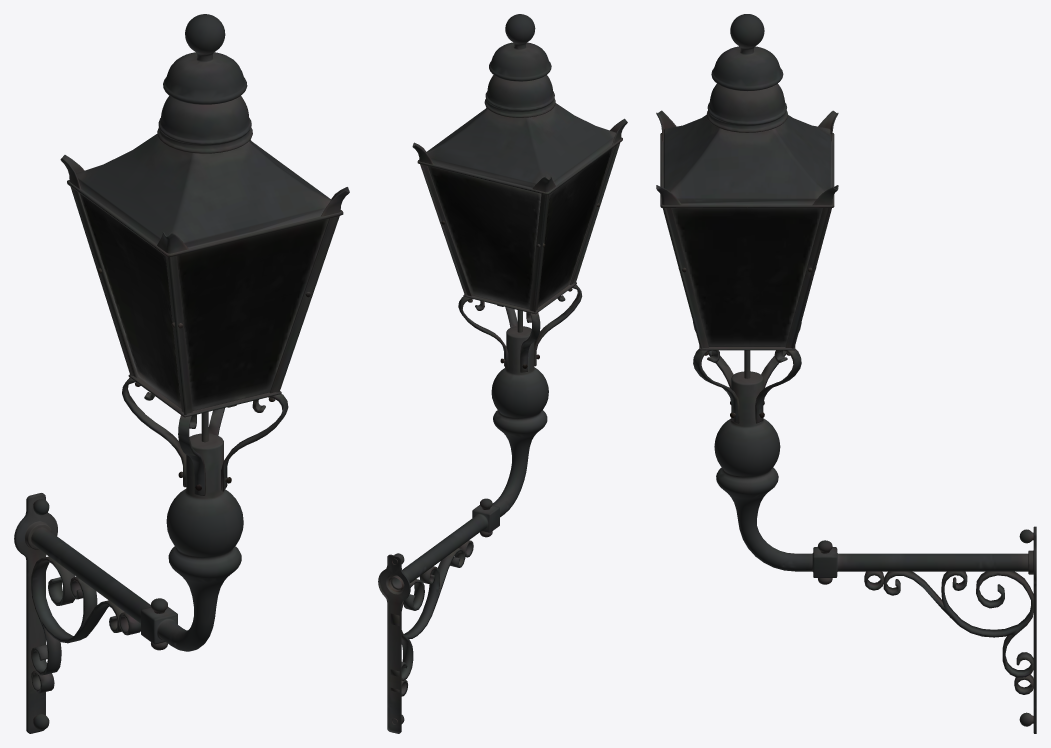
Rendered from street_lamp_02.glb.
3 views of the same model, side by side, from view 1: azimuth 30°, elevation 25°; view 2: azimuth 150°, elevation 25°; view 3: azimuth 270°, elevation 25° (orthographic). The views are drawn at different scales.
Visible parts, largest first — view 1: street_lamp_02; view 2: street_lamp_02; view 3: street_lamp_02.
Boxes of the visible parts, x1,y1,x2,y2 form: street_lamp_02: [14, 14, 349, 733]; street_lamp_02: [378, 14, 627, 733]; street_lamp_02: [656, 14, 1036, 733].
Bounding box in the file's own units: 0.3865 × 1.68 × 0.8067.
2 materials, 2 textured.
